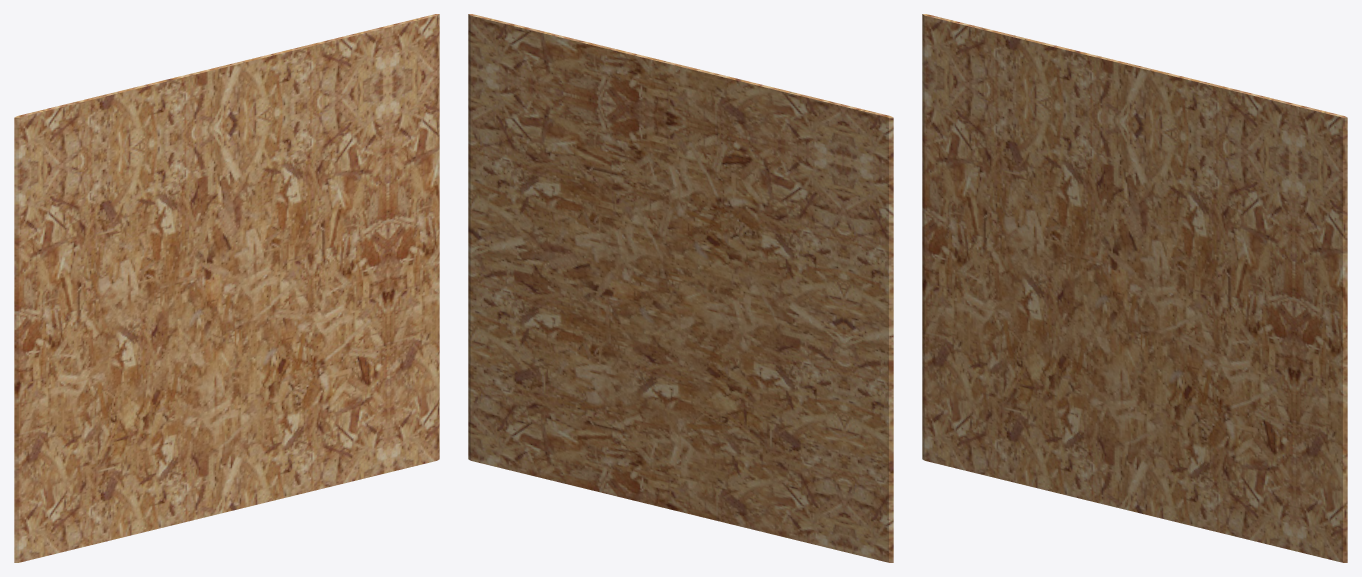
Rendered from nist_maze_wall_120.dae.
The picture shows the model from 3 angles, left to right: view 1: azimuth 30°, elevation 25°; view 2: azimuth 150°, elevation 25°; view 3: azimuth 330°, elevation 25°; orthographic projection.
Parts seen in each view (by area): view 1: Plane; view 2: Plane; view 3: Plane.
Part boxes in pixels (left/top/right/bottom): Plane: left=14, top=14, right=439, bottom=562; Plane: left=468, top=14, right=893, bottom=562; Plane: left=922, top=14, right=1347, bottom=562.
Size of the model in its own units: 1.2 by 0.01 by 1.2.
Materials: 1 (1 with a texture image).
